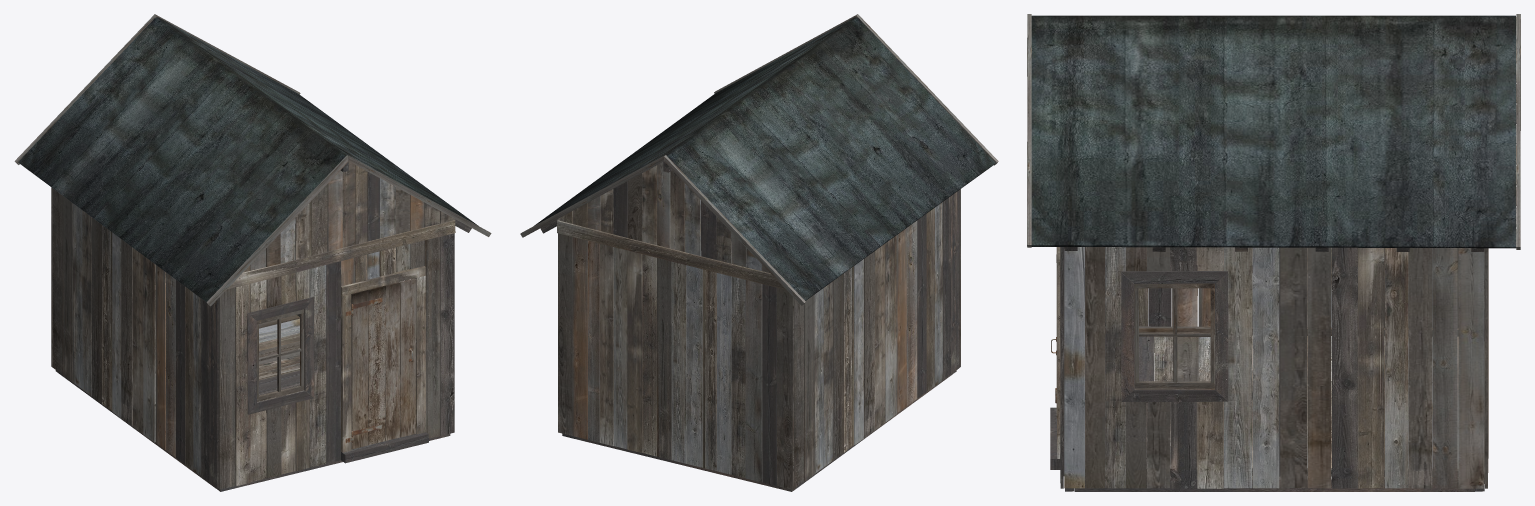
Rendered from cottage_shed.glb.
3 views of the same model, side by side, from view 1: azimuth 30°, elevation 25°; view 2: azimuth 150°, elevation 25°; view 3: azimuth 270°, elevation 25° (orthographic). The views are drawn at different scales.
Visible parts, largest first — view 1: cottage_shed; view 2: cottage_shed; view 3: cottage_shed.
Boxes of the visible parts, box(x1,y1,x2,y2) form: cottage_shed: box(14, 14, 491, 491); cottage_shed: box(520, 14, 998, 491); cottage_shed: box(1027, 14, 1520, 491).
Size of the model in its own units: 4.67 by 5 by 5.52.
Materials: 1 (1 with a texture image).
